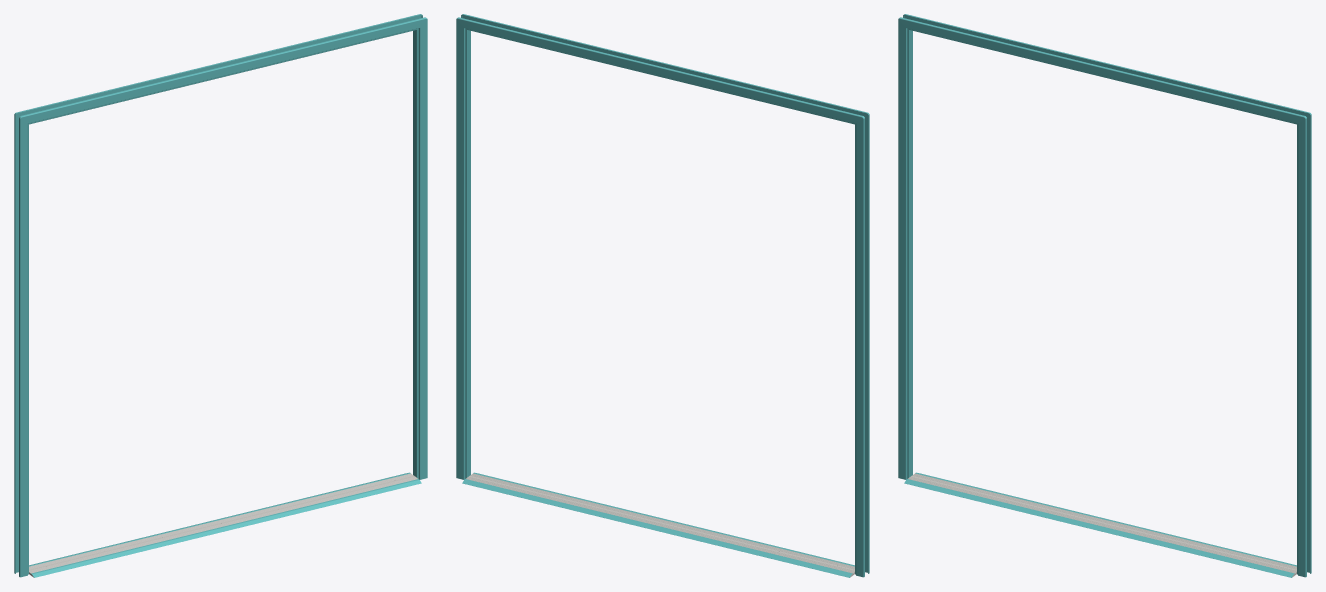
The model's file is Kit_DoorFrame_FRPPair_DA.fbx.
3 views of the same model, side by side, from view 1: azimuth 30°, elevation 25°; view 2: azimuth 150°, elevation 25°; view 3: azimuth 330°, elevation 25° (orthographic).
Parts seen in each view (by area): view 1: Kit_DoorFrame_FRPPair_DA_LOD0; view 2: Kit_DoorFrame_FRPPair_DA_LOD0; view 3: Kit_DoorFrame_FRPPair_DA_LOD0.
Part boxes in pixels (bbox=[...]): Kit_DoorFrame_FRPPair_DA_LOD0: bbox=[14, 14, 427, 577]; Kit_DoorFrame_FRPPair_DA_LOD0: bbox=[456, 14, 869, 577]; Kit_DoorFrame_FRPPair_DA_LOD0: bbox=[898, 14, 1311, 577].
Size of what is drawn, in the model's own units: 2.53 by 2.72 by 0.152.
